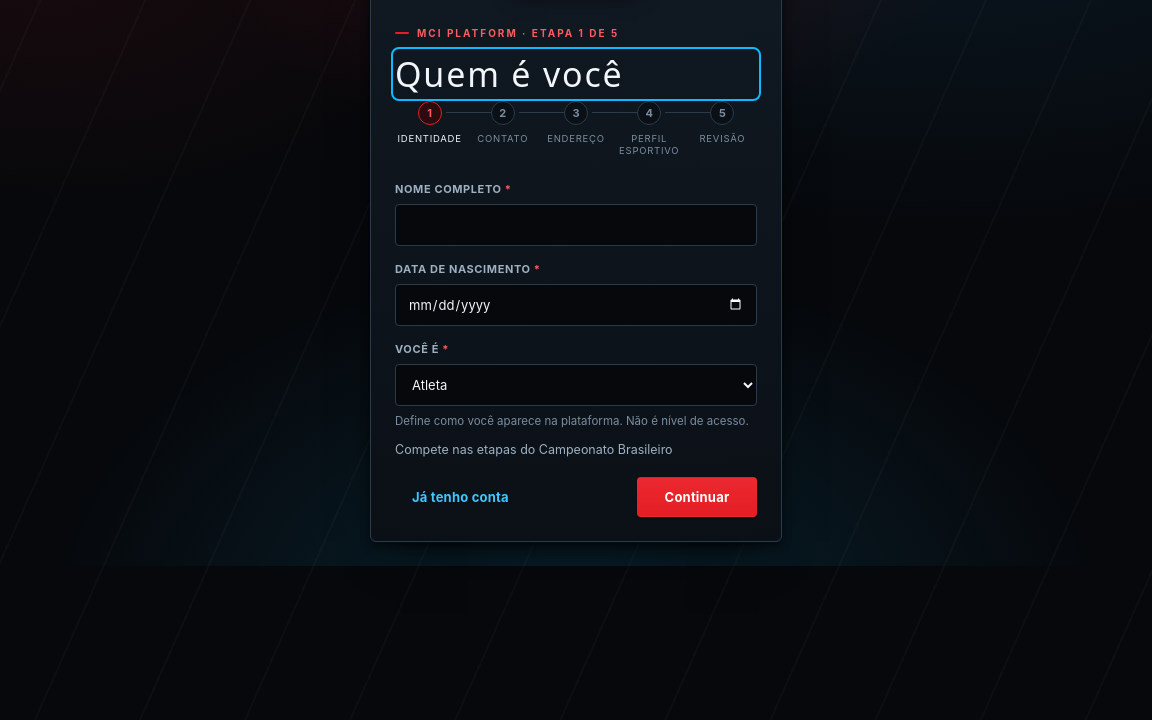
Test: navegação por etapas › não avança com a etapa 1 vazia, e acusa no campo
(page scrolled)
Step 1. Click the button "Continuar" → (697, 497), box x1=637 y1=477 x2=757 y2=517
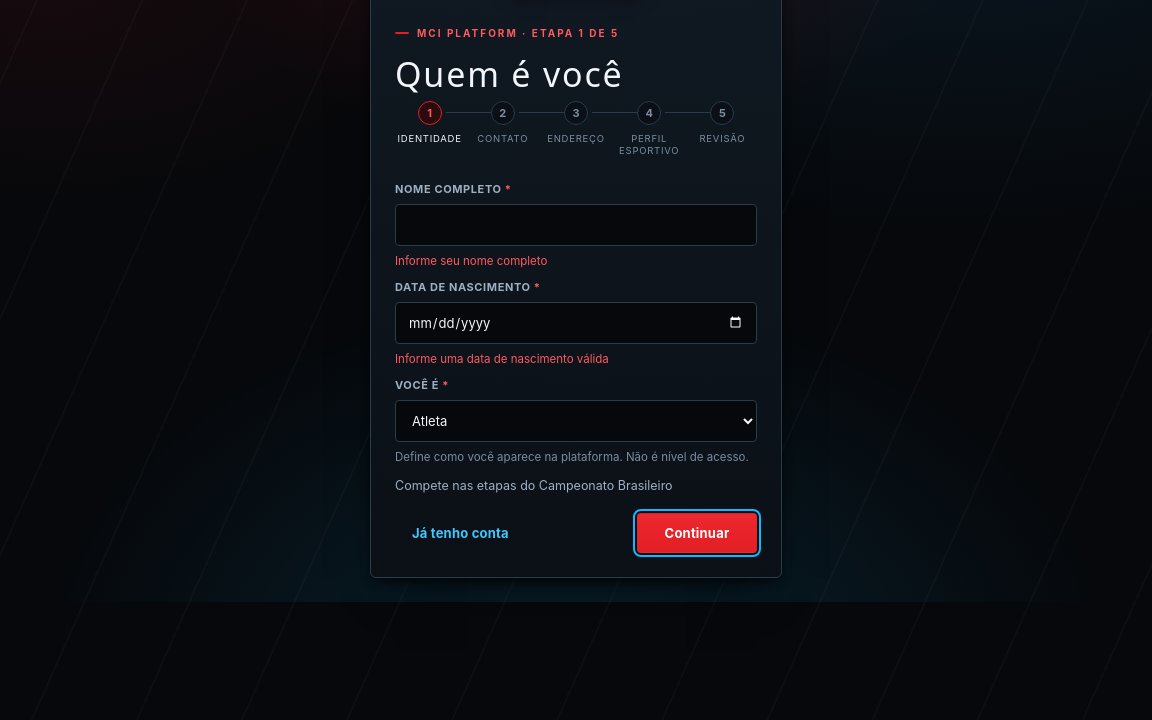
Result: the text "Informe seu nome completo" is shown at x1=395 y1=254 x2=547 y2=268
